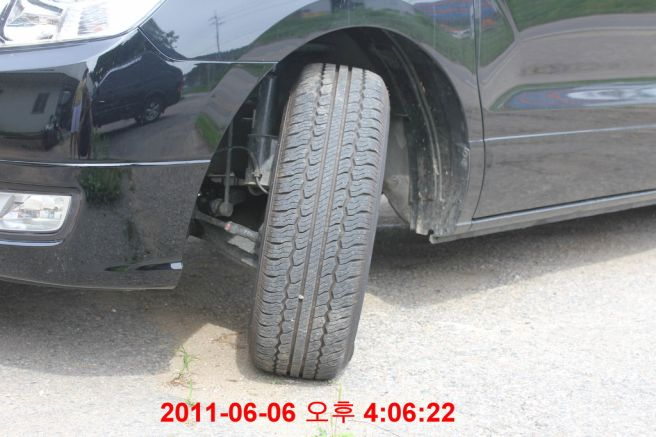middle_condition: (256, 63, 390, 383)
